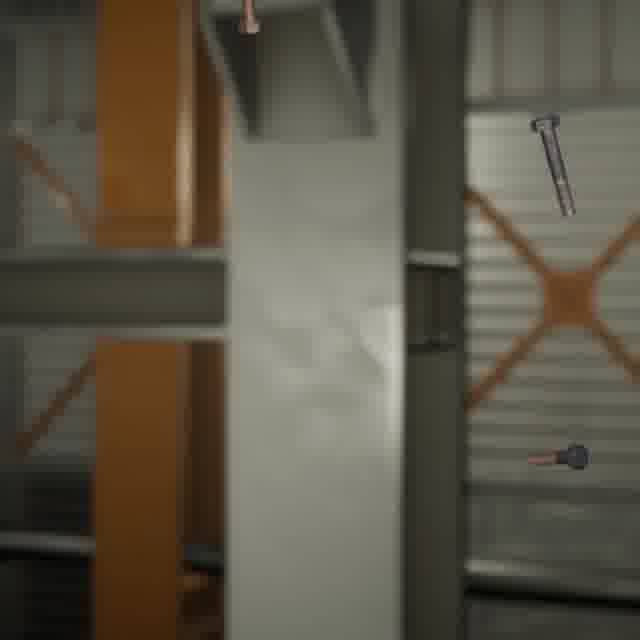bolt: (526, 110, 580, 221), (524, 439, 592, 473), (233, 0, 267, 38)
